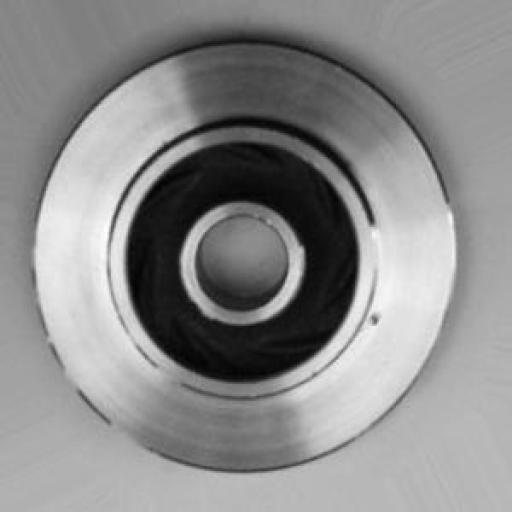defect: (342, 292, 406, 354)
